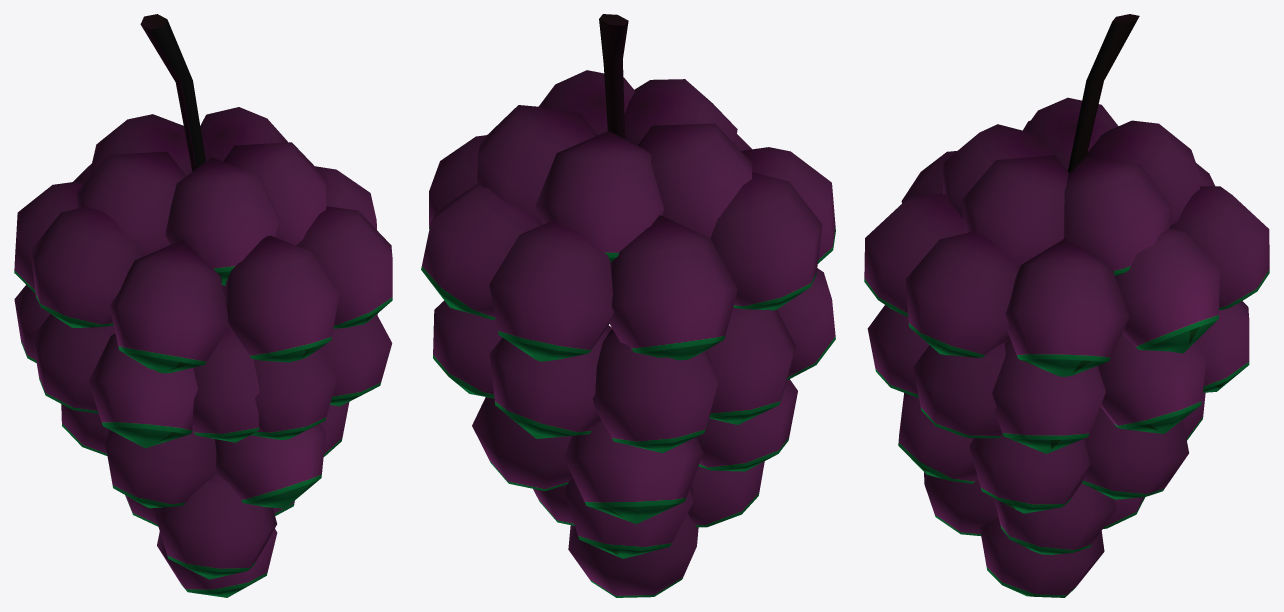
The model's file is grape.fbx.
3 renders of one model, left to right at view 1: azimuth 30°, elevation 25°; view 2: azimuth 150°, elevation 25°; view 3: azimuth 270°, elevation 25°, orthographic. The views are drawn at different scales.
Visible parts, largest first — view 1: grapes_mesh; view 2: grapes_mesh; view 3: grapes_mesh.
Boxes of the visible parts, <box> form: grapes_mesh: <box>14,14,392,597</box>; grapes_mesh: <box>421,14,835,597</box>; grapes_mesh: <box>864,14,1269,597</box>.
Bounding box in the file's own units: 1.17 × 1.82 × 1.18.
